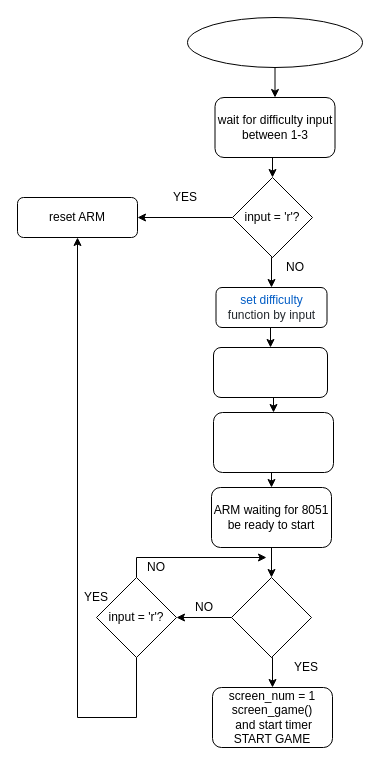
This 380x765 diagram has some shape labels left out. Here are the shapes that lost their labels. From the top down, the centre of each, then its label:
the point at 274,42: void screen_pre_start ()
the point at 270,372: make ships and set time by difficulty
the point at 273,442: send ready to the 8051 , ARM ready to start
the point at 271,617: input = 's'?
